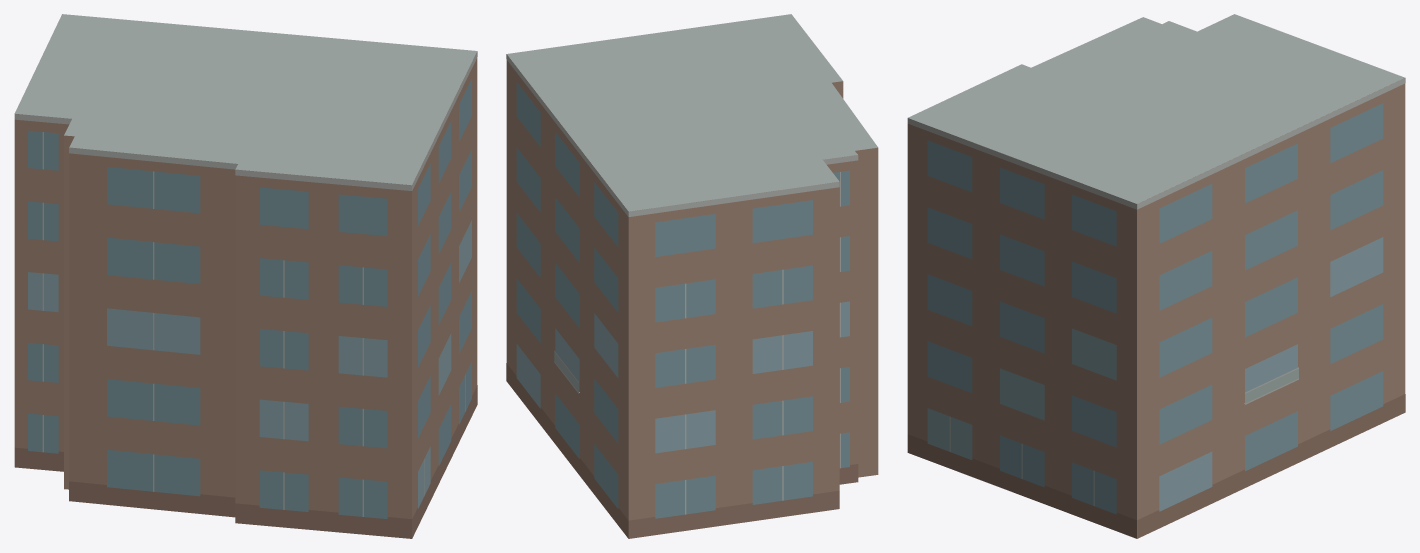
Rendered from survey-upis-32668298.glb.
The picture shows the model from 3 angles, left to right: view 1: azimuth 30°, elevation 25°; view 2: azimuth 150°, elevation 25°; view 3: azimuth 270°, elevation 25°; orthographic projection. The views are drawn at different scales.
Parts seen in each view (by area): view 1: survey-upis-32668298.tmp; view 2: survey-upis-32668298.tmp; view 3: survey-upis-32668298.tmp.
Boxes of the visible parts, left/top/right/bottom form: survey-upis-32668298.tmp: left=14, top=14, right=477, bottom=538; survey-upis-32668298.tmp: left=506, top=14, right=878, bottom=538; survey-upis-32668298.tmp: left=907, top=14, right=1405, bottom=538.
Size of the model in its own units: 17.79 by 14.6 by 19.68.
